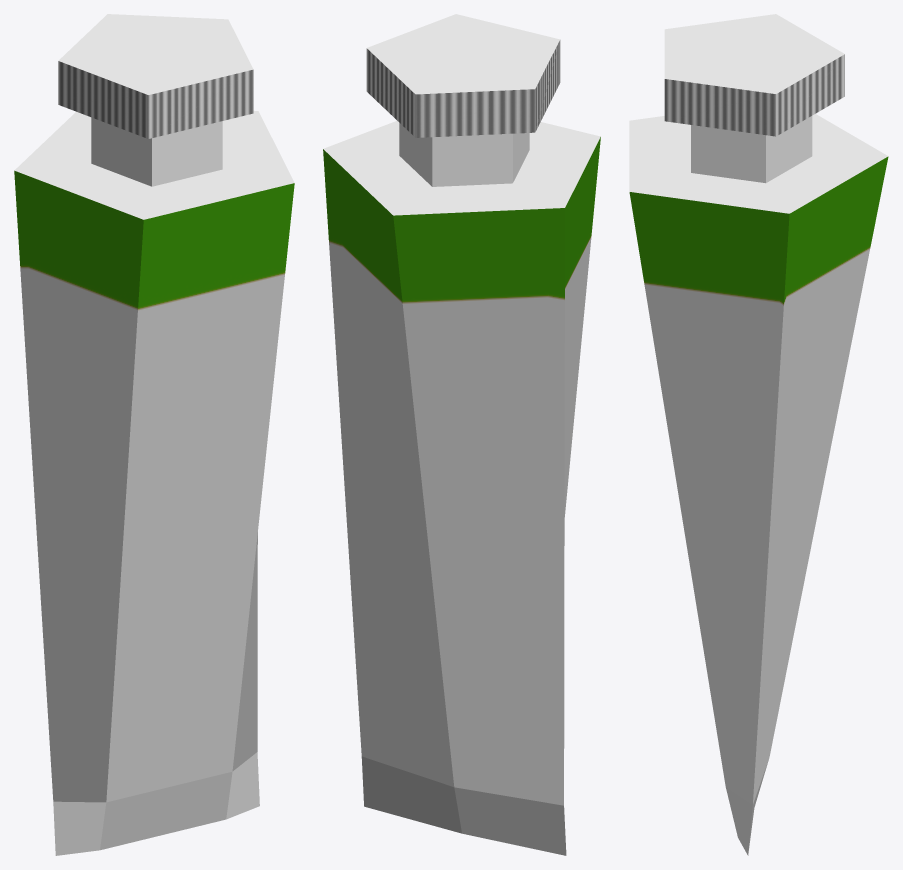
File: dyestuffs_Green.fbx
The picture shows the model from 3 angles, left to right: view 1: azimuth 30°, elevation 25°; view 2: azimuth 150°, elevation 25°; view 3: azimuth 270°, elevation 25°; orthographic projection. The views are drawn at different scales.
Visible parts, largest first — view 1: Cylinder004; view 2: Cylinder004; view 3: Cylinder004.
Boxes of the visible parts, x1,y1,x2,y2 form: Cylinder004: (14,14,294,855); Cylinder004: (323,14,600,855); Cylinder004: (629,14,888,855).
Size of the model in its own units: 0.8103 by 2.47 by 0.7707.
1 material, 1 textured.
